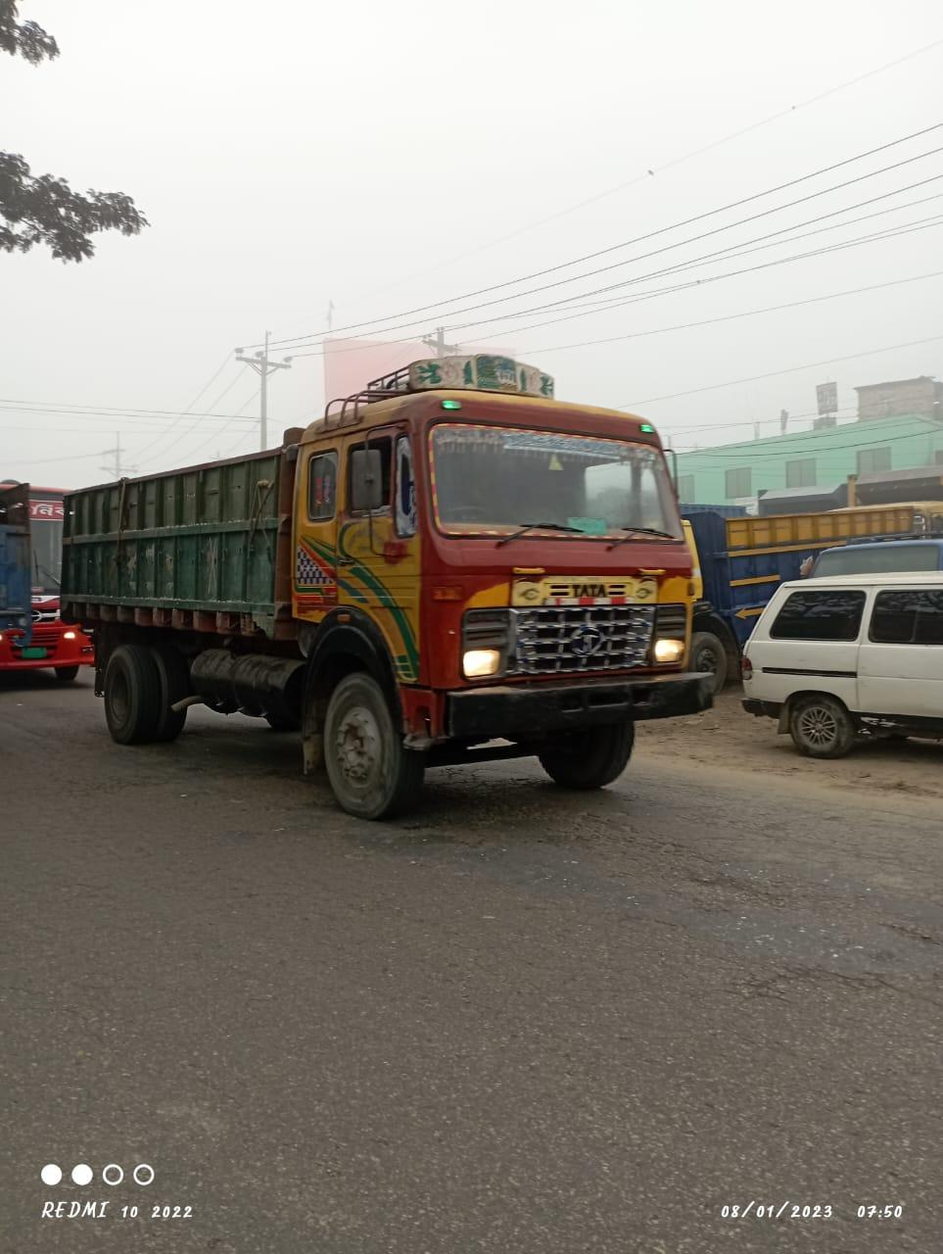Car: (727, 565, 943, 756)
Truck: (51, 341, 719, 820)
